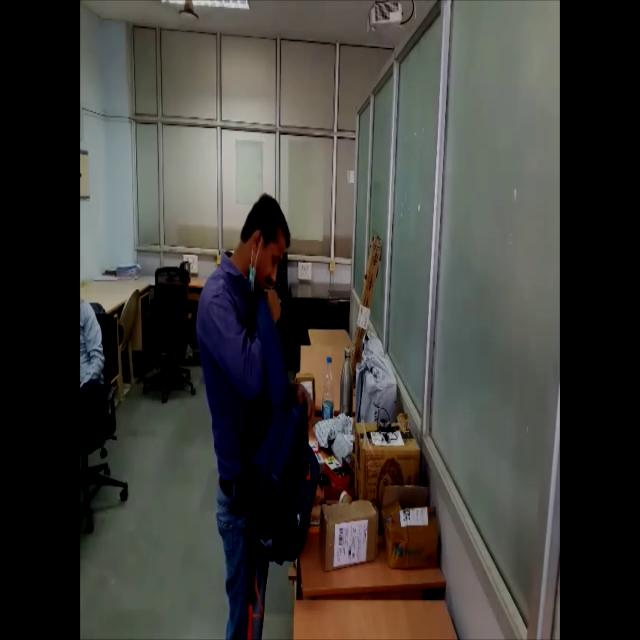normal: (194, 190, 325, 640)
